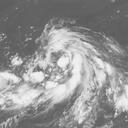cyclone: (34, 25, 102, 87)
